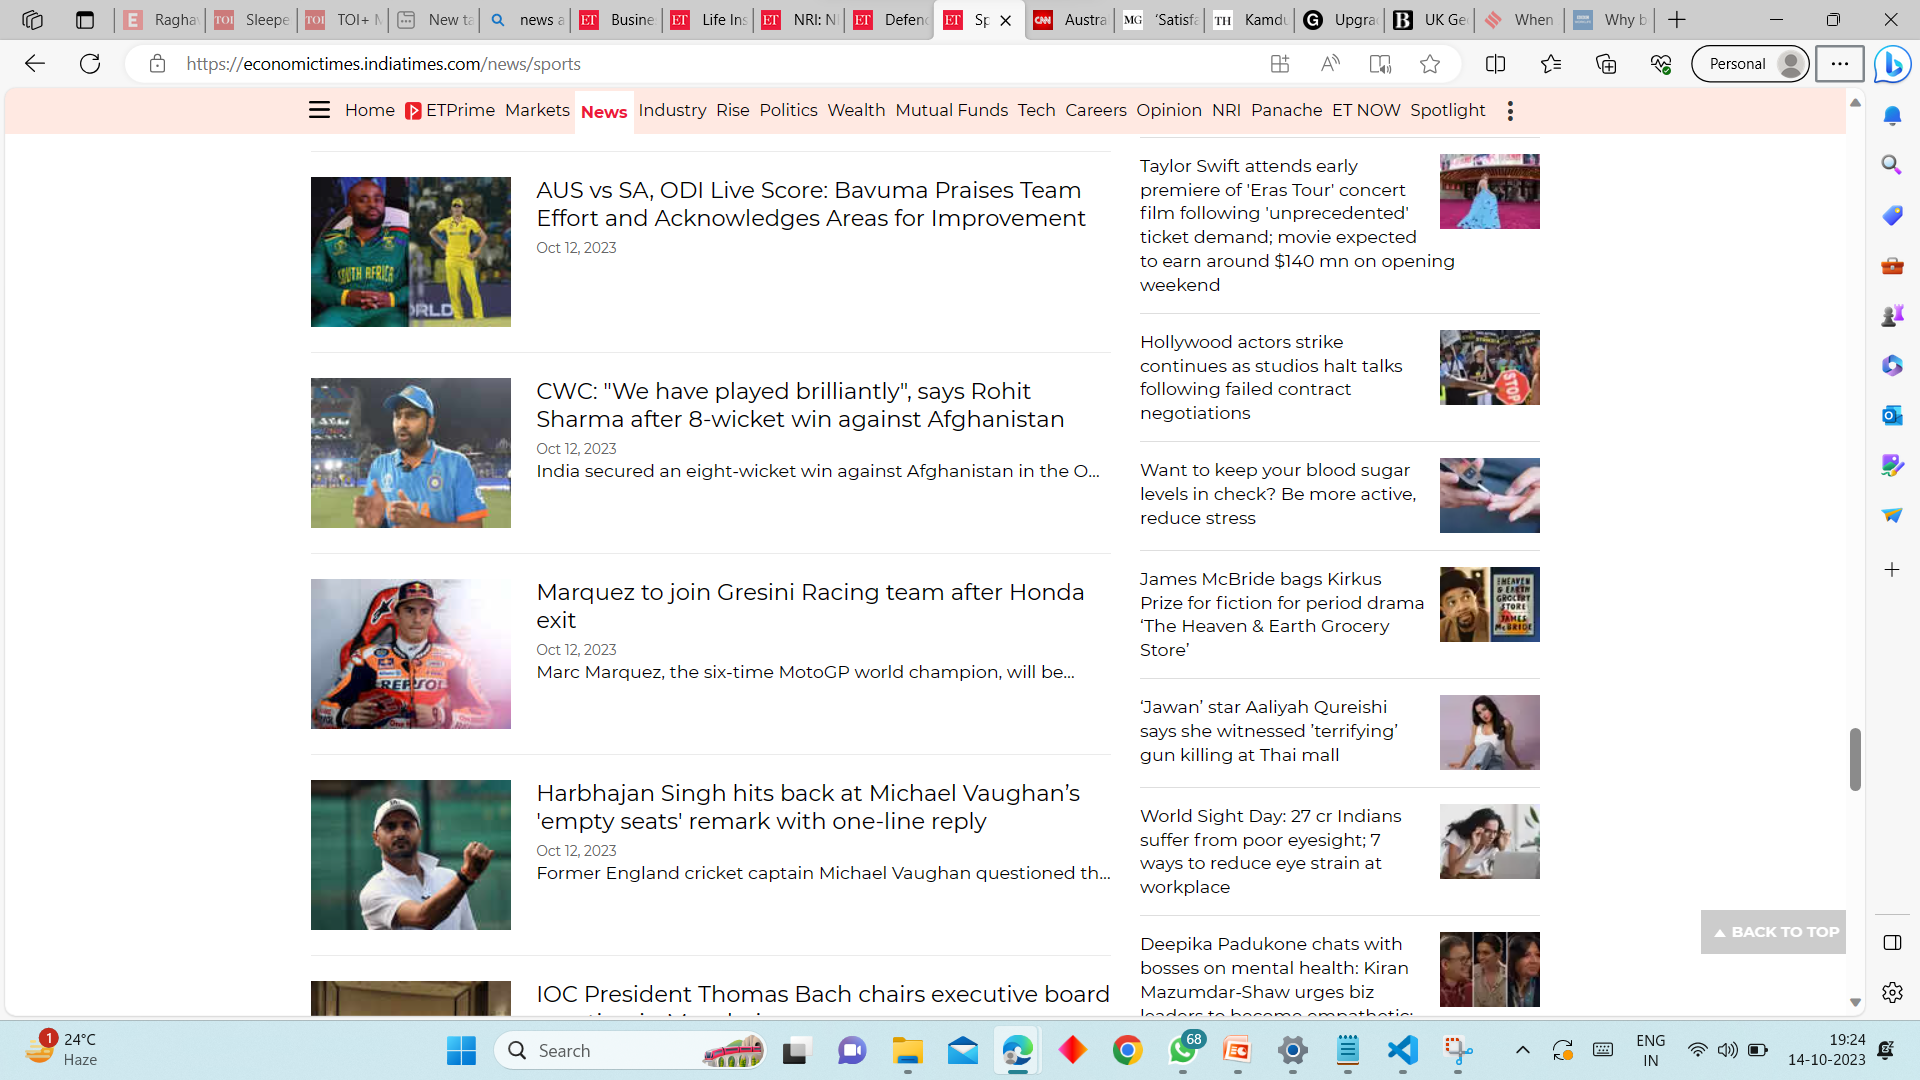Image: (309, 181, 517, 324), (311, 584, 508, 733), (311, 781, 508, 928), (311, 382, 505, 530), (1437, 796, 1543, 881), (1433, 154, 1543, 231), (1437, 566, 1543, 642), (1440, 932, 1543, 1009), (1436, 328, 1543, 401), (1437, 702, 1547, 771), (318, 980, 505, 1015), (1443, 456, 1534, 527)
Paragraph: (521, 167, 1087, 270), (525, 364, 1089, 454), (534, 572, 1102, 655), (1129, 145, 1429, 298), (541, 769, 1080, 852), (1116, 324, 1420, 431), (1125, 807, 1393, 907), (1134, 694, 1418, 781), (1135, 566, 1418, 653), (1125, 928, 1415, 1013), (530, 975, 1125, 1013), (1134, 459, 1420, 534), (524, 861, 1116, 893), (534, 662, 1080, 694), (530, 459, 1098, 489)
